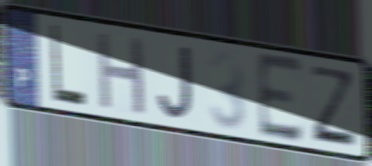3: (207, 47, 248, 133)
E: (255, 50, 306, 147)
H: (95, 28, 148, 118)
J: (156, 43, 195, 122)
L: (49, 21, 88, 110)
Z: (310, 62, 359, 151)
